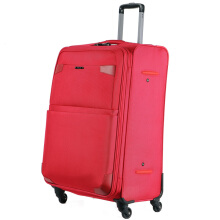luggage: (39, 0, 171, 220)
